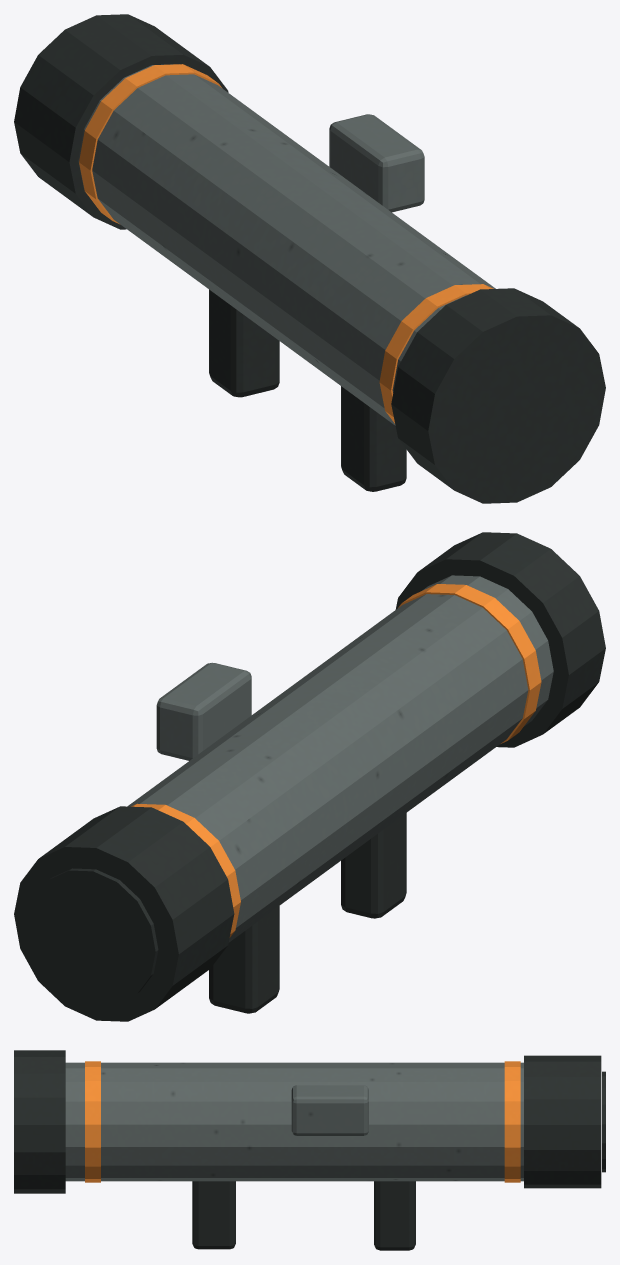
Rendered from standard_rocket_v1.glb.
3 views of the same model, one above another, from view 1: azimuth 30°, elevation 25°; view 2: azimuth 150°, elevation 25°; view 3: azimuth 270°, elevation 25° (orthographic). The views are drawn at different scales.
Parts seen in each view (by area): view 1: Weapon_rocket; view 2: Weapon_rocket; view 3: Weapon_rocket.
Boxes of the visible parts, left/top/right/bottom form: Weapon_rocket: left=14, top=14, right=605, bottom=503; Weapon_rocket: left=14, top=532, right=605, bottom=1021; Weapon_rocket: left=14, top=1050, right=605, bottom=1250.
Bounding box in the file's own units: 0.2475 × 0.321 × 0.917.
Materials: 3 (3 with a texture image).
